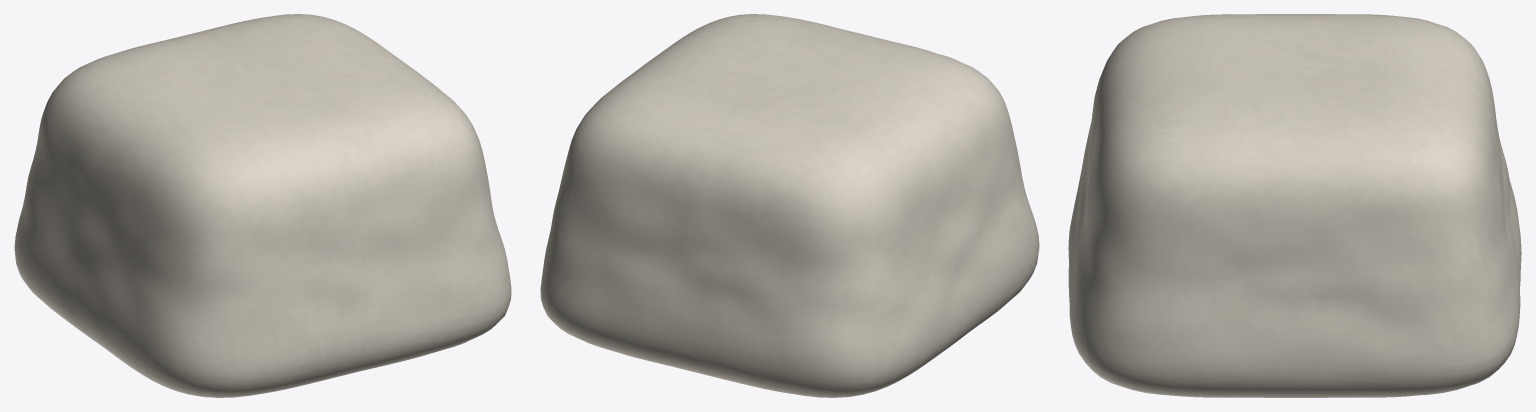
Rendered from pouf-cream-boucle.glb.
3 renders of one model, left to right at view 1: azimuth 30°, elevation 25°; view 2: azimuth 150°, elevation 25°; view 3: azimuth 270°, elevation 25°, orthographic. The views are drawn at different scales.
Parts seen in each view (by area): view 1: fabric_primary; view 2: fabric_primary; view 3: fabric_primary.
Part boxes in pixels (<box>): fabric_primary: <box>14,14,511,397</box>; fabric_primary: <box>540,14,1039,397</box>; fabric_primary: <box>1068,14,1521,397</box>.
Bounding box in the file's own units: 0.6375 × 0.4 × 0.6381.
Materials: 1 (1 with a texture image).
